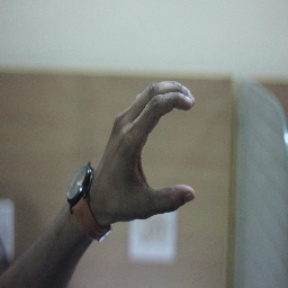C: (97, 75, 206, 221)
